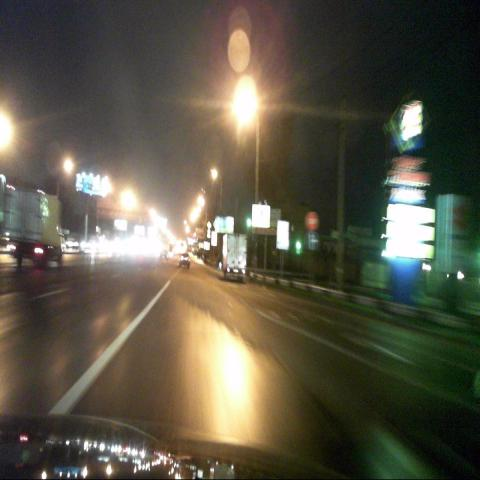2_5: (307, 211, 319, 231)
